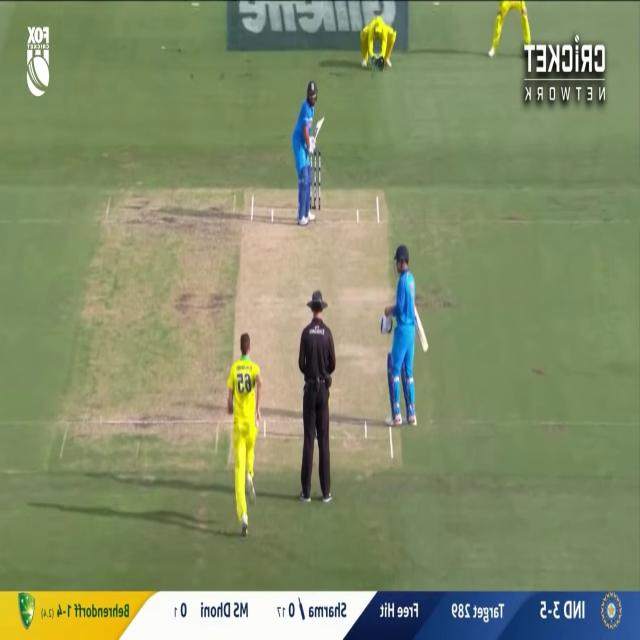stump: (308, 149, 321, 212)
